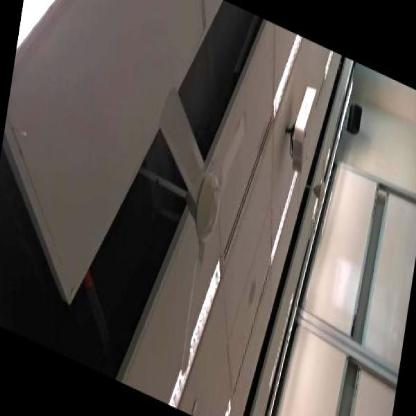light_on: (163, 236, 227, 415), (14, 0, 102, 96), (264, 154, 303, 283), (264, 25, 307, 128), (216, 385, 239, 415), (320, 47, 336, 85)
